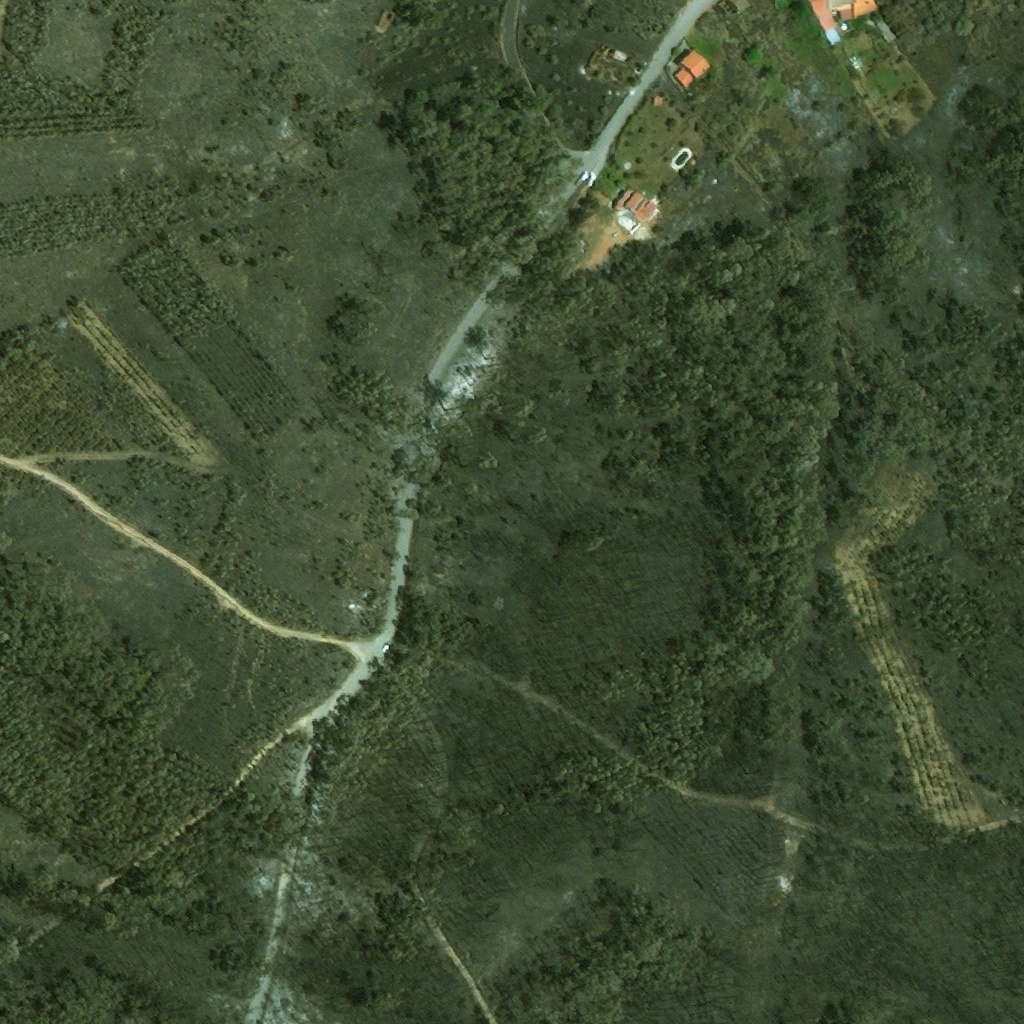0 no-damage: (807, 0, 878, 45), (610, 187, 661, 225), (679, 49, 710, 78), (875, 22, 896, 44), (674, 68, 693, 88), (846, 53, 860, 70), (651, 97, 662, 105)
3 destroyed: (602, 44, 638, 71)
4 un-classified: (717, 0, 757, 13)
